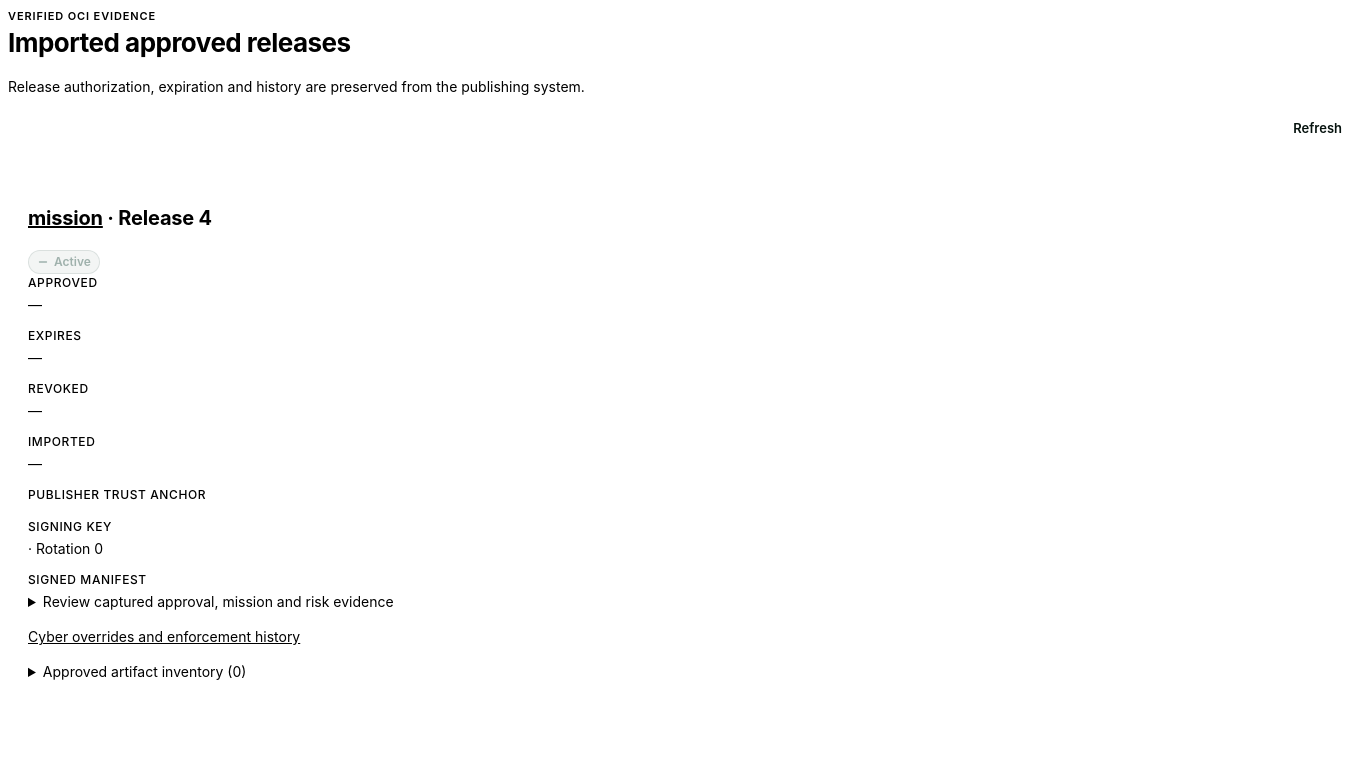
Test case: loads historical approval and mission evidence only when requested
The image size is (1366, 768).
Click the heading "Review captured approval, mission and risk evidence".
click(218, 602)  # box left=43, top=593, right=394, bottom=610
(page scrolled)
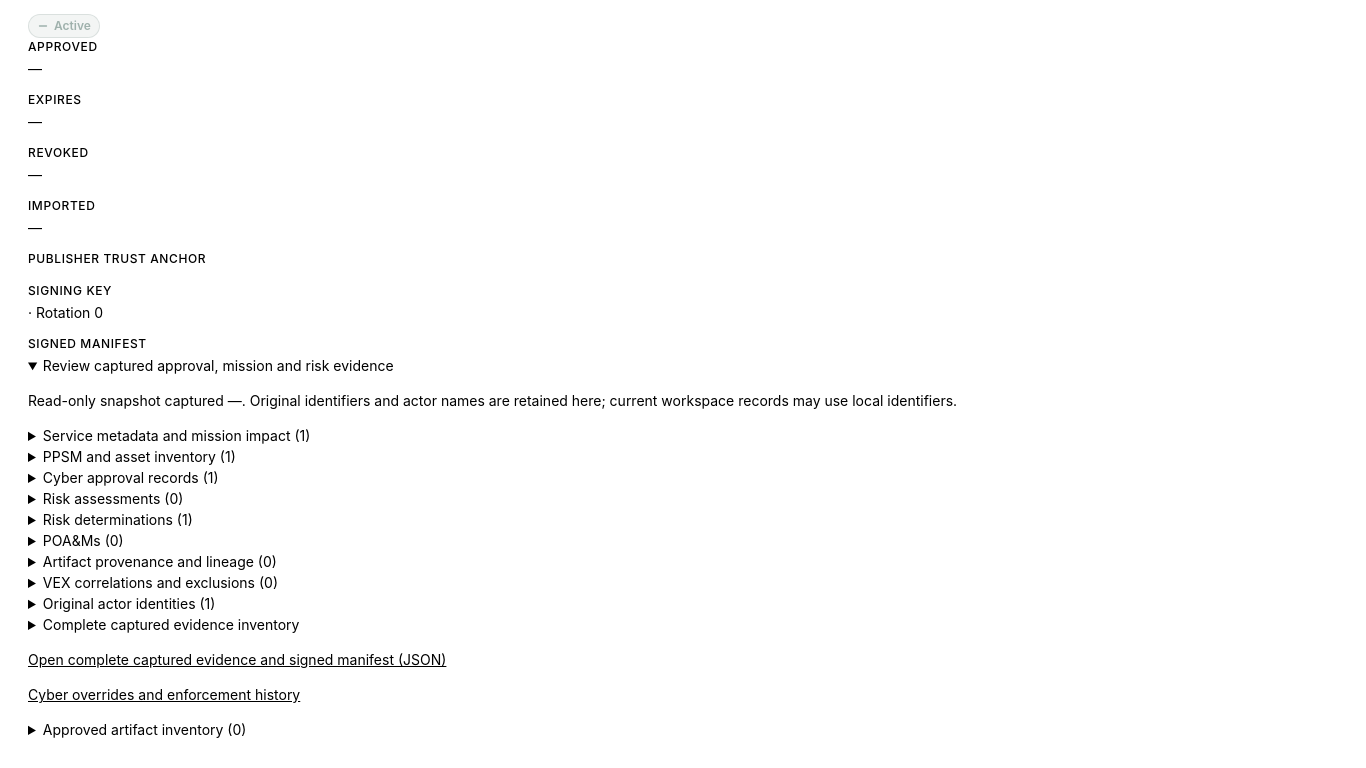
Check: the heading "Cyber approval records (1)" is shown, box left=43, top=469, right=218, bottom=486
Check: the heading "PPSM and asset inventory (1)" is shown, box left=43, top=448, right=236, bottom=465
